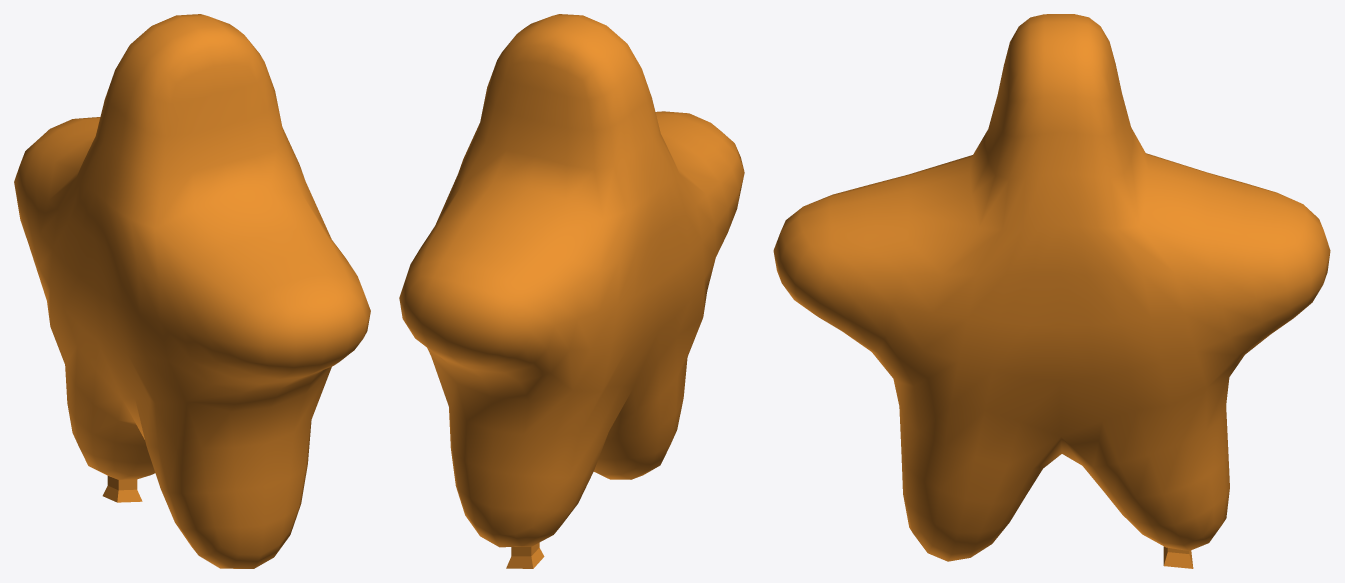
The model's file is Copy of StarBalloon1.1.fbx.
The picture shows the model from 3 angles, left to right: view 1: azimuth 30°, elevation 25°; view 2: azimuth 150°, elevation 25°; view 3: azimuth 270°, elevation 25°; orthographic projection. The views are drawn at different scales.
Parts seen in each view (by area): view 1: Star; view 2: Star; view 3: Star.
Part boxes in pixels (left/top/right/bottom): Star: left=14, top=14, right=370, bottom=568; Star: left=399, top=14, right=744, bottom=568; Star: left=773, top=14, right=1330, bottom=568.
Size of the model in its own units: 45.7 by 118 by 109.
